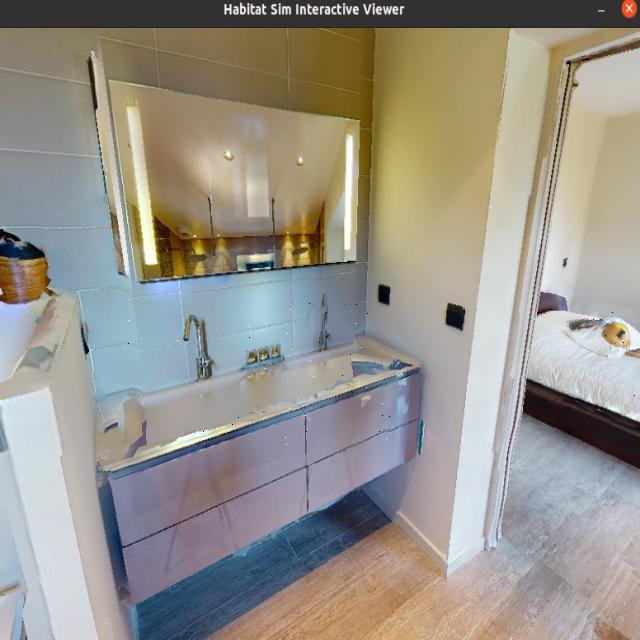bed: (506, 300, 640, 444)
sink: (121, 298, 401, 449)
